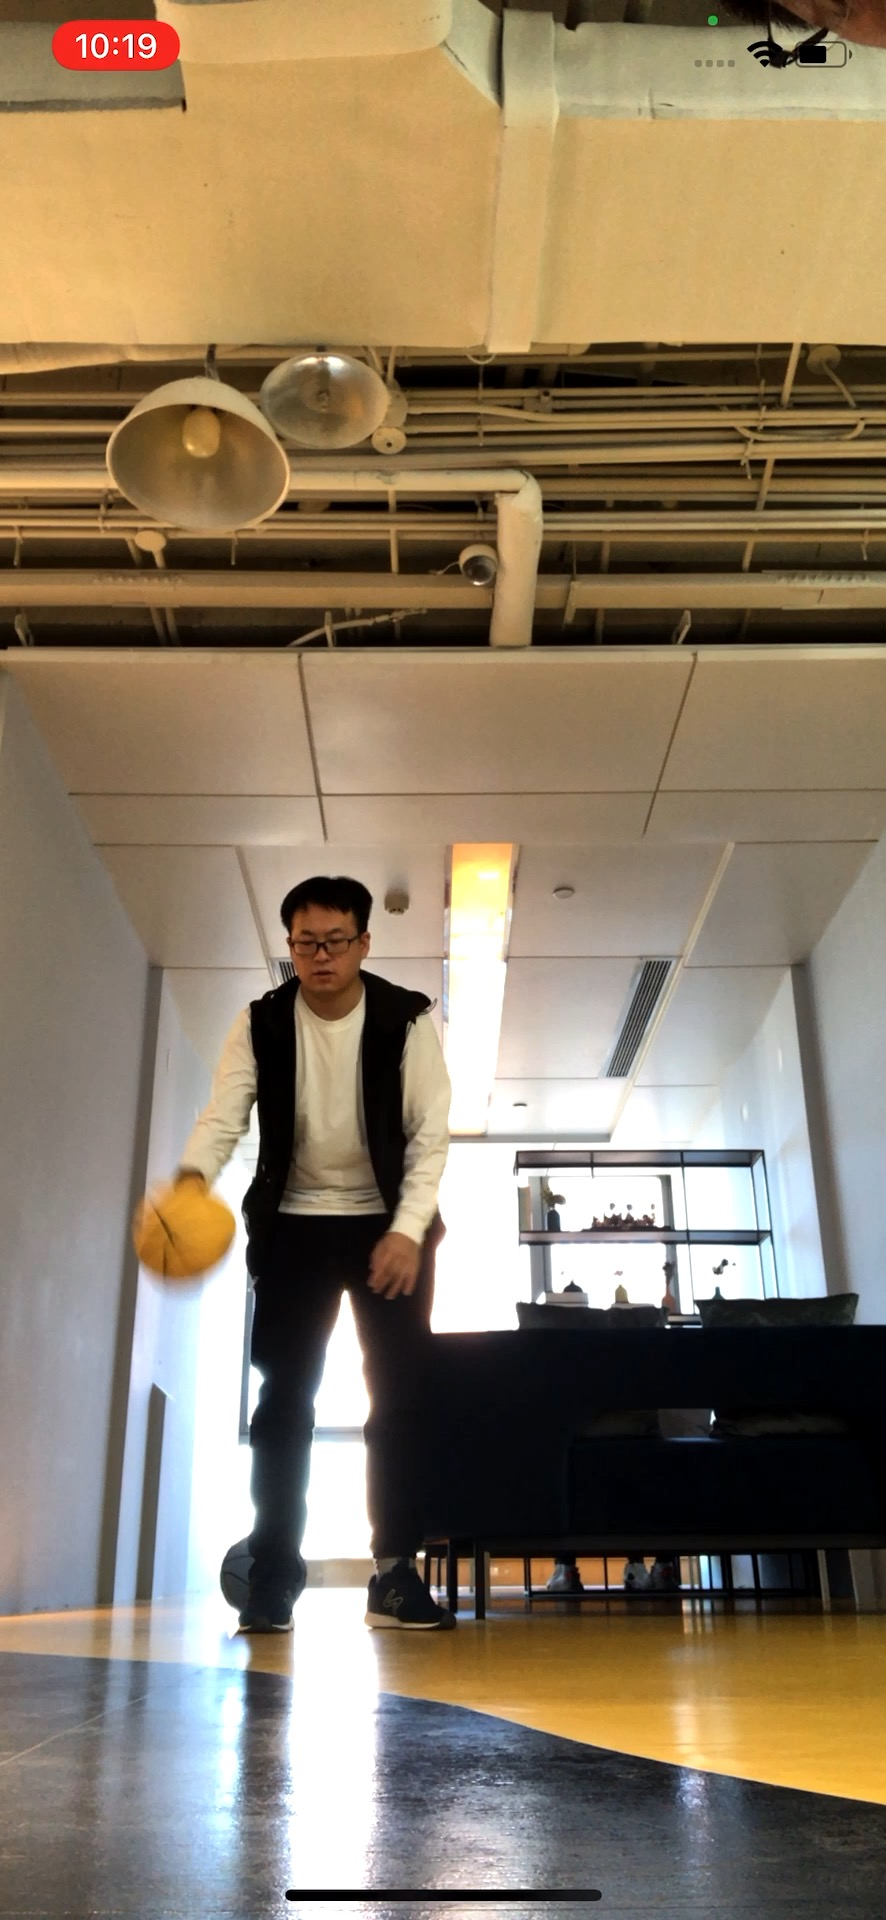ball: (131, 1180, 235, 1282)
